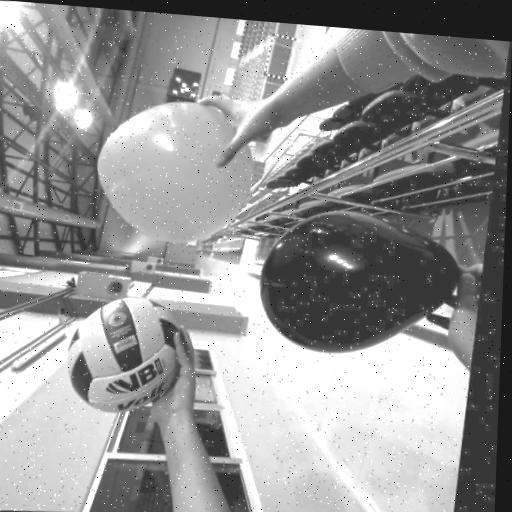balloon: (251, 201, 466, 369), (88, 85, 263, 252)
